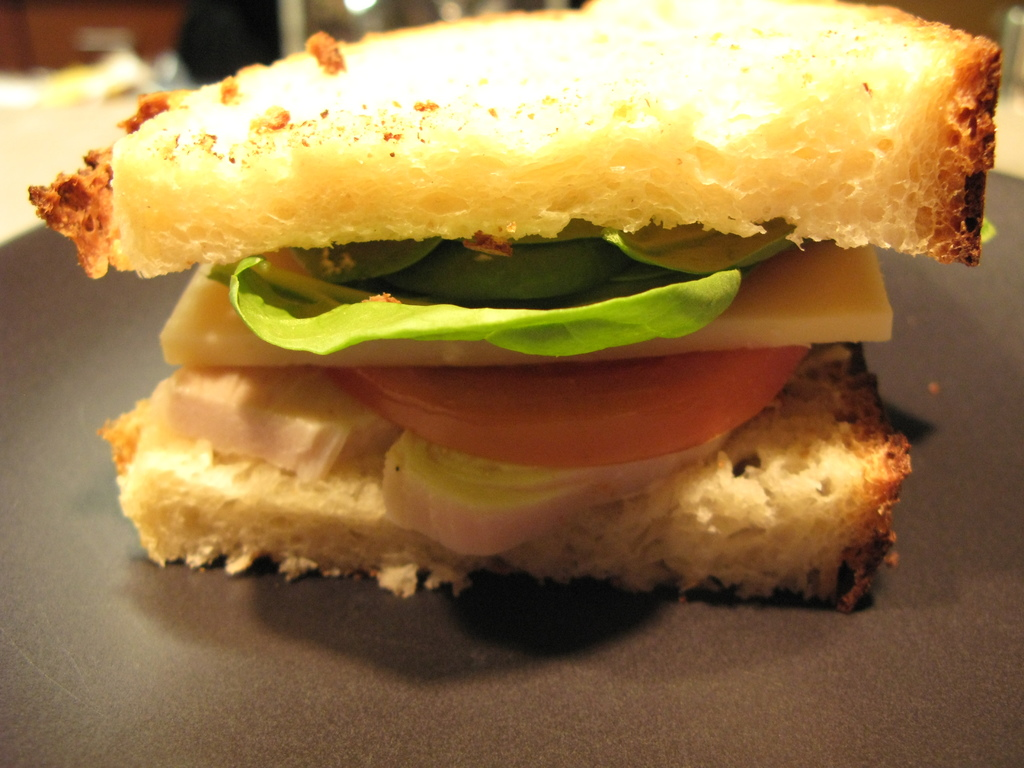Hamburger: (28, 0, 1004, 604)
